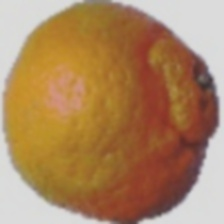tangerine: (31, 47, 220, 195)
